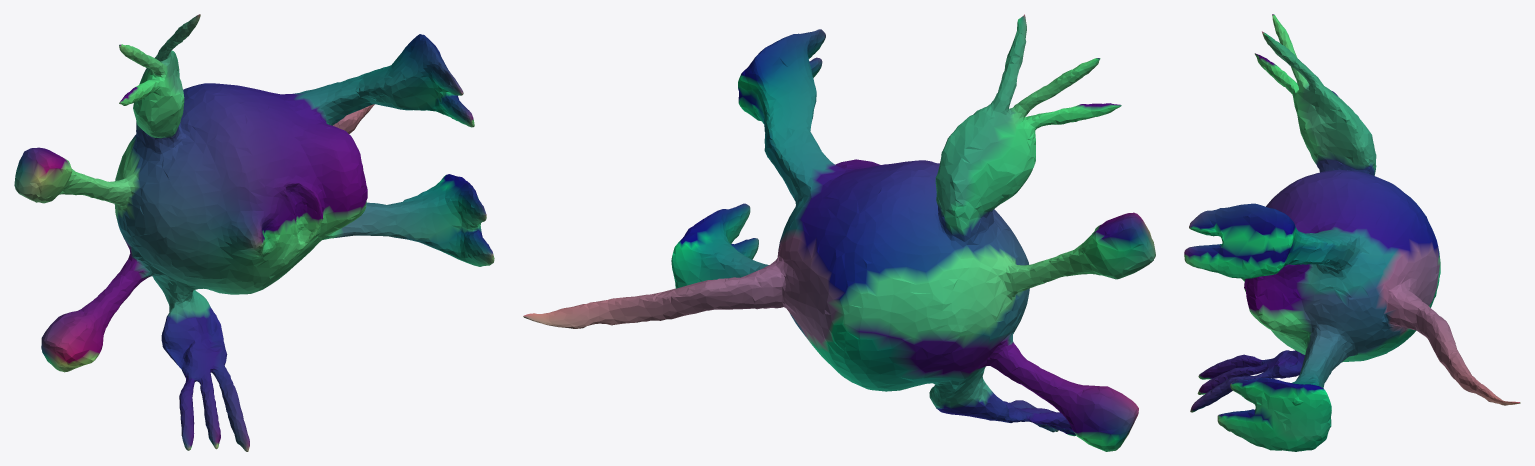
Rendered from alien-10.off.obj.
3 views of the same model, side by side, from view 1: azimuth 30°, elevation 25°; view 2: azimuth 150°, elevation 25°; view 3: azimuth 270°, elevation 25° (orthographic). The views are drawn at different scales.
Size of the model in its own units: 1.32 by 1.11 by 0.8945.
